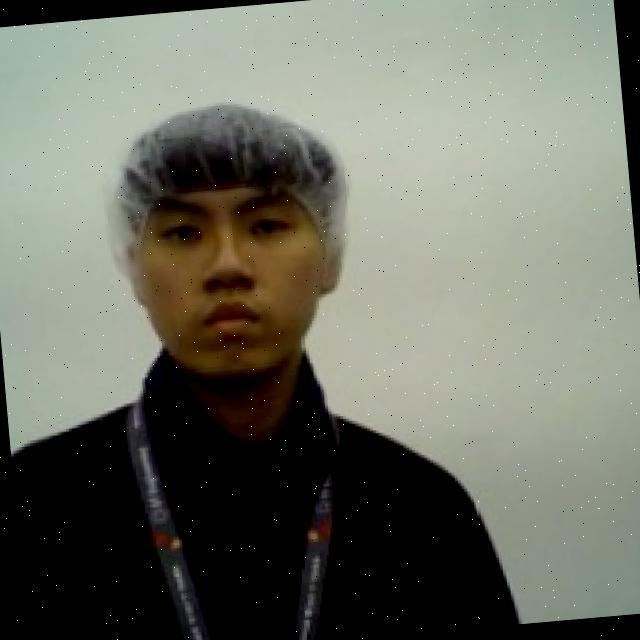gloves: (96, 87, 364, 312)
no_hairnet: (124, 230, 349, 404)
